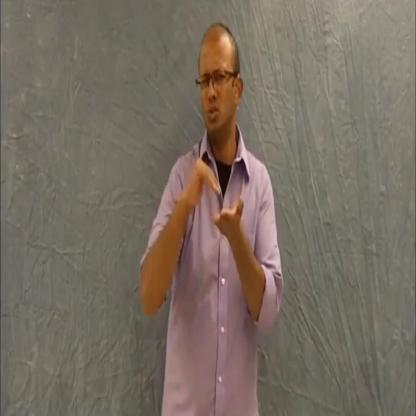ExcuseMe: (180, 147, 247, 245)
